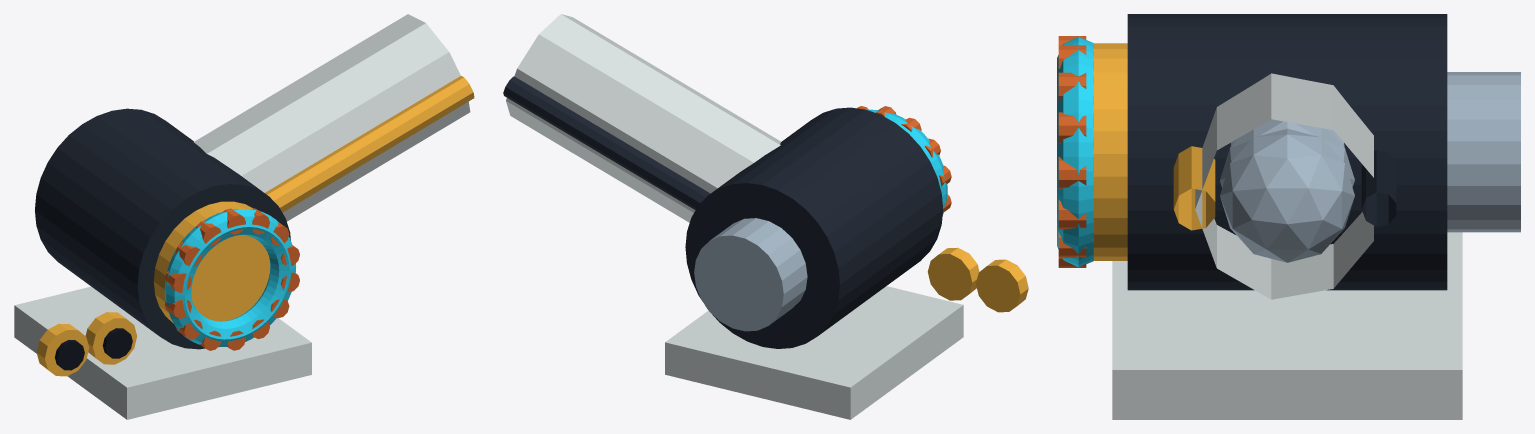
Rendered from 13_L86_RobotJoint6WristPitch.fbx.
The picture shows the model from 3 angles, left to right: view 1: azimuth 30°, elevation 25°; view 2: azimuth 150°, elevation 25°; view 3: azimuth 270°, elevation 25°; orthographic projection. The views are drawn at different scales.
Parts seen in each view (by area): view 1: L86_RobotJoint6WristPitch_Part_0005, L86_RobotJoint6WristPitch_Part_0000, L86_RobotJoint6WristPitch_Part_0001, L86_RobotJoint6WristPitch_Part_0002, L86_RobotJoint6WristPitch_Part_0004, L86_RobotJoint6WristPitch_Part_0006, L86_RobotJoint6WristPitch_Part_0008, L86_RobotJoint6WristPitch_Part_0007, L86_RobotJoint6WristPitch_Part_0009; view 2: L86_RobotJoint6WristPitch_Part_0005, L86_RobotJoint6WristPitch_Part_0000, L86_RobotJoint6WristPitch_Part_0003, L86_RobotJoint6WristPitch_Part_0006, L86_RobotJoint6WristPitch_Part_0008, L86_RobotJoint6WristPitch_Part_0002, L86_RobotJoint6WristPitch_Part_0004; view 3: L86_RobotJoint6WristPitch_Part_0005, L86_RobotJoint6WristPitch_Part_0000, L86_RobotJoint6WristPitch_Part_0003, L86_RobotJoint6WristPitch_Part_0001, L86_RobotJoint6WristPitch_Part_0002, L86_RobotJoint6WristPitch_Part_0004.
Boxes of the visible parts, box(x1,y1,x2,y2) form: L86_RobotJoint6WristPitch_Part_0005: box(14, 14, 470, 419); L86_RobotJoint6WristPitch_Part_0000: box(35, 108, 290, 349); L86_RobotJoint6WristPitch_Part_0001: box(153, 76, 474, 323); L86_RobotJoint6WristPitch_Part_0002: box(164, 209, 295, 347); L86_RobotJoint6WristPitch_Part_0004: box(164, 208, 299, 350); L86_RobotJoint6WristPitch_Part_0006: box(36, 323, 89, 376); L86_RobotJoint6WristPitch_Part_0008: box(85, 312, 136, 364); L86_RobotJoint6WristPitch_Part_0007: box(55, 340, 84, 370); L86_RobotJoint6WristPitch_Part_0009: box(102, 328, 132, 358); L86_RobotJoint6WristPitch_Part_0005: box(506, 14, 963, 419); L86_RobotJoint6WristPitch_Part_0000: box(503, 76, 943, 348); L86_RobotJoint6WristPitch_Part_0003: box(694, 218, 807, 331); L86_RobotJoint6WristPitch_Part_0006: box(976, 259, 1028, 312); L86_RobotJoint6WristPitch_Part_0008: box(927, 247, 979, 300); L86_RobotJoint6WristPitch_Part_0002: box(866, 109, 947, 215); L86_RobotJoint6WristPitch_Part_0004: box(857, 106, 951, 212); L86_RobotJoint6WristPitch_Part_0005: box(1112, 73, 1462, 419); L86_RobotJoint6WristPitch_Part_0000: box(1127, 14, 1447, 290); L86_RobotJoint6WristPitch_Part_0003: box(1220, 72, 1520, 262); L86_RobotJoint6WristPitch_Part_0001: box(1093, 43, 1215, 260); L86_RobotJoint6WristPitch_Part_0002: box(1057, 37, 1093, 267); L86_RobotJoint6WristPitch_Part_0004: box(1058, 36, 1086, 267).
Bounding box in the file's own units: 133 × 76.5 × 75.5.
